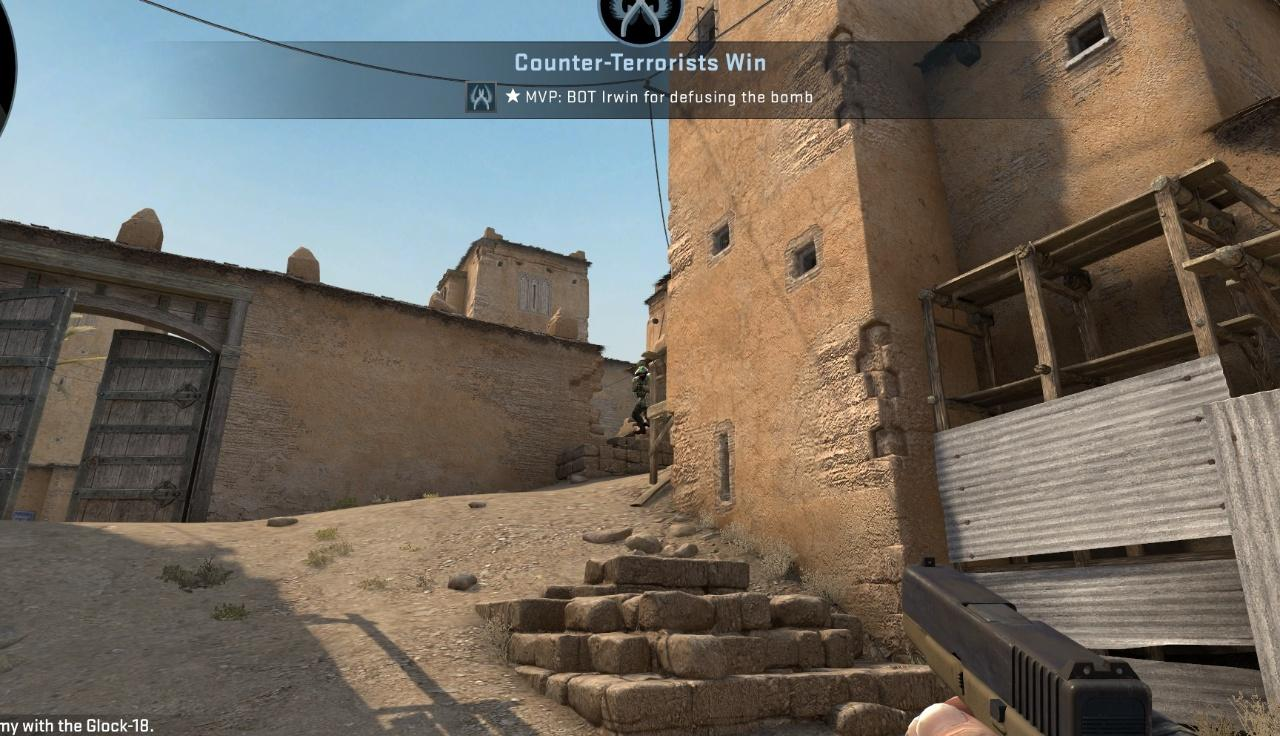ct: (632, 367, 654, 433)
cthead: (637, 367, 647, 379)
pistol: (899, 554, 1241, 736)
